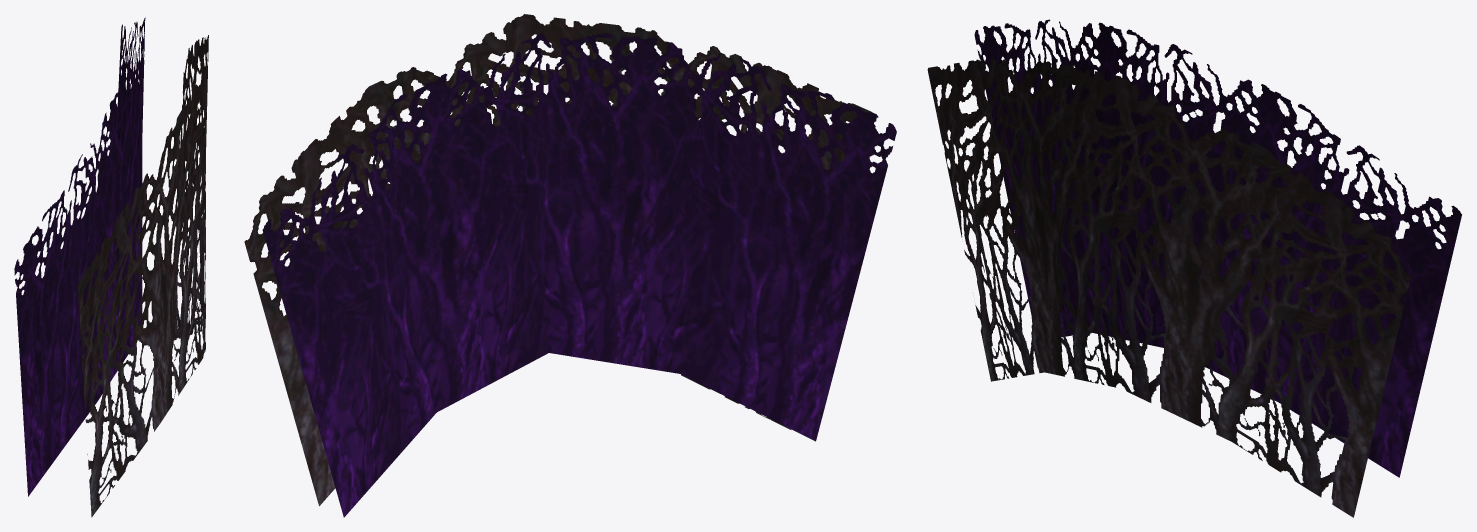
File: EKH_ENTRANCE_PS_EN_TREE_LINE049487.fbx
3 renders of one model, left to right at view 1: azimuth 30°, elevation 25°; view 2: azimuth 150°, elevation 25°; view 3: azimuth 270°, elevation 25°, orthographic. The views are drawn at different scales.
Visible parts, largest first — view 1: EKH_ENTRANCE_PS_EN_TREE_LINE049487; view 2: EKH_ENTRANCE_PS_EN_TREE_LINE049487; view 3: EKH_ENTRANCE_PS_EN_TREE_LINE049487.
Part boxes in pixels (bbox=[...]): EKH_ENTRANCE_PS_EN_TREE_LINE049487: bbox=[14, 17, 208, 517]; EKH_ENTRANCE_PS_EN_TREE_LINE049487: bbox=[244, 14, 896, 517]; EKH_ENTRANCE_PS_EN_TREE_LINE049487: bbox=[927, 19, 1461, 517].
Bounding box in the file's own units: 189768 × 186594 × 215353.
2 materials, 2 textured.
